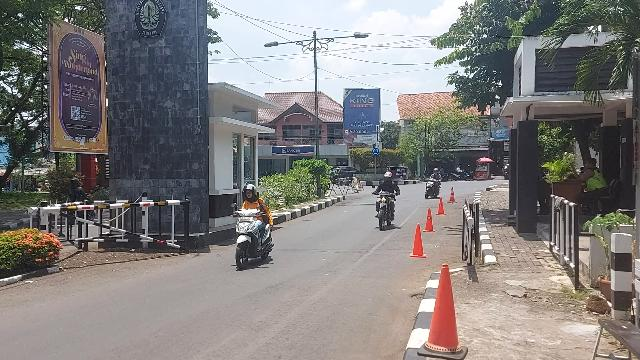helm: (244, 185, 258, 200), (385, 173, 393, 184), (435, 169, 440, 175)
motor: (232, 210, 274, 268), (374, 192, 398, 232), (426, 180, 441, 201)
